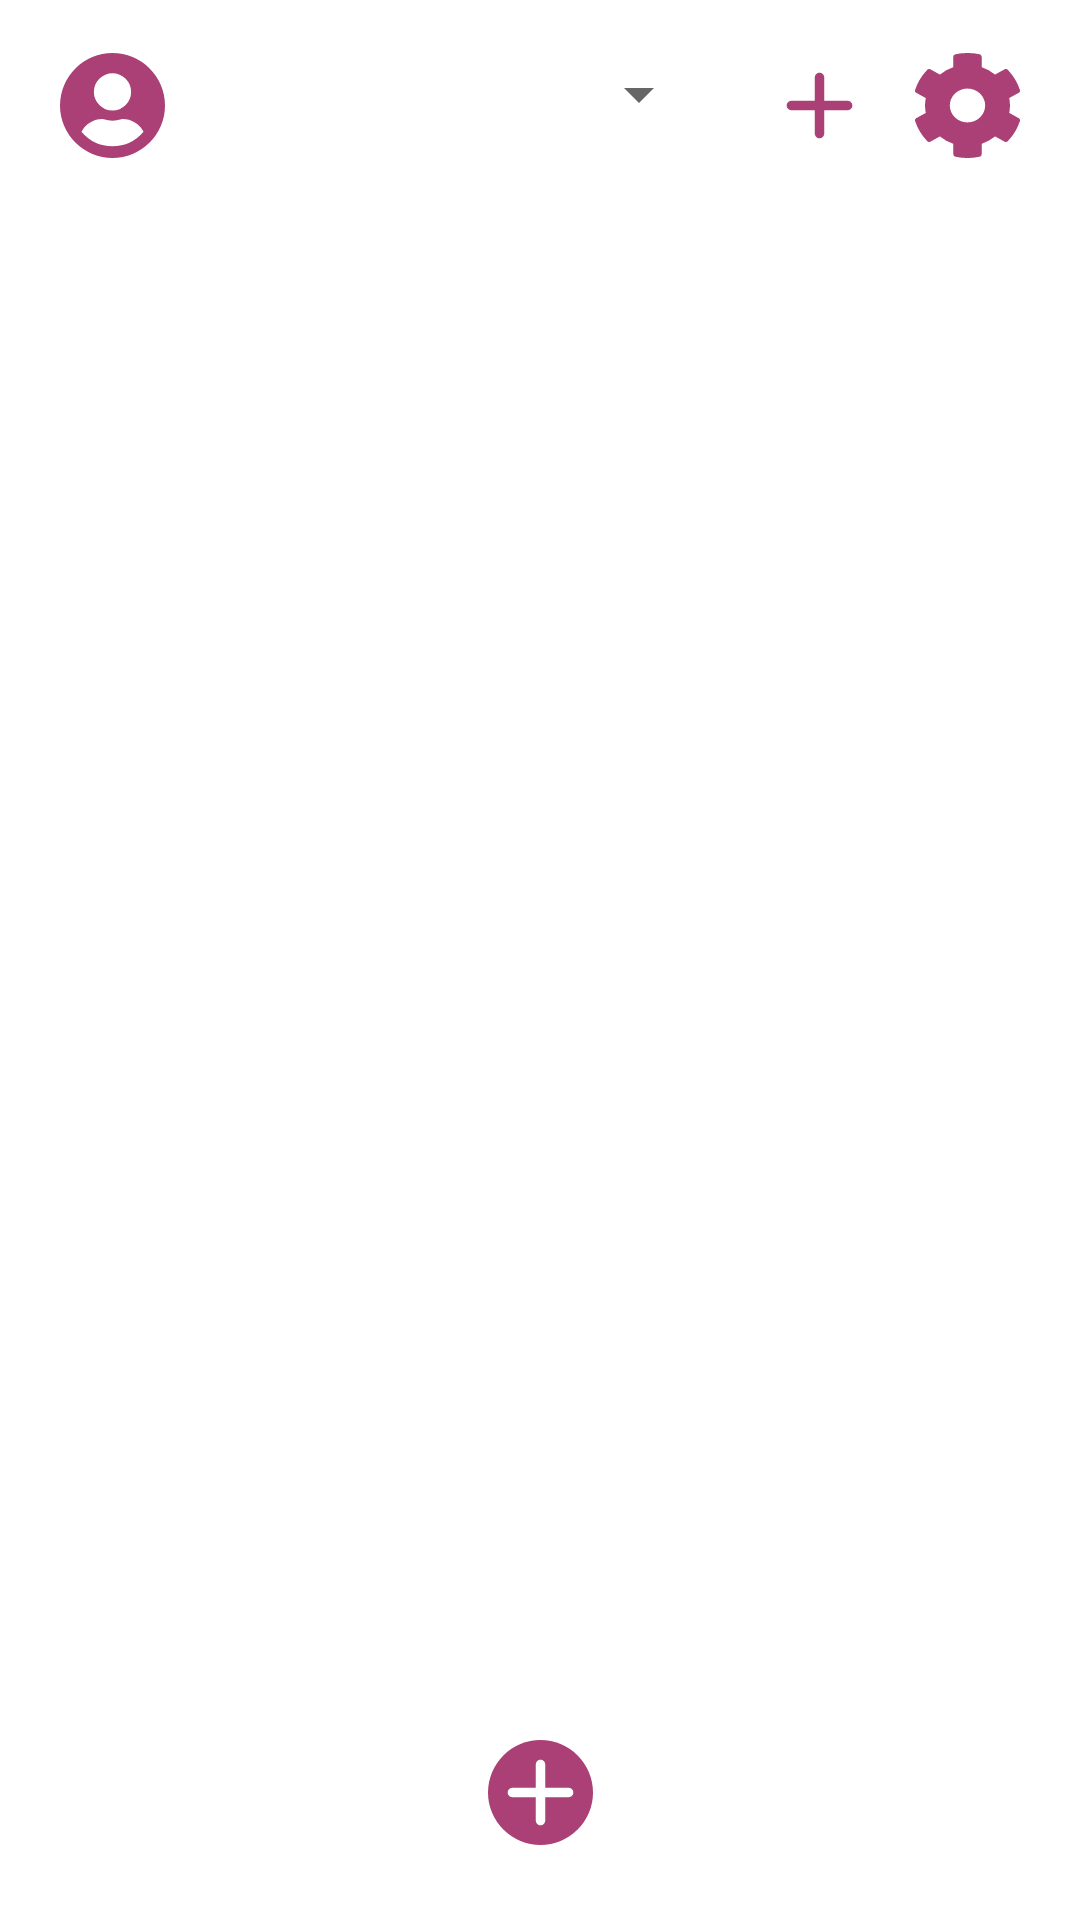

Locate icon controls on the screen. Image size 1080 x 1920, boxes as (x1, y1, x2, y2).
add: (786, 72, 853, 139), (488, 1740, 593, 1845)
profile: (60, 53, 165, 158)
settings: (915, 53, 1020, 158)
